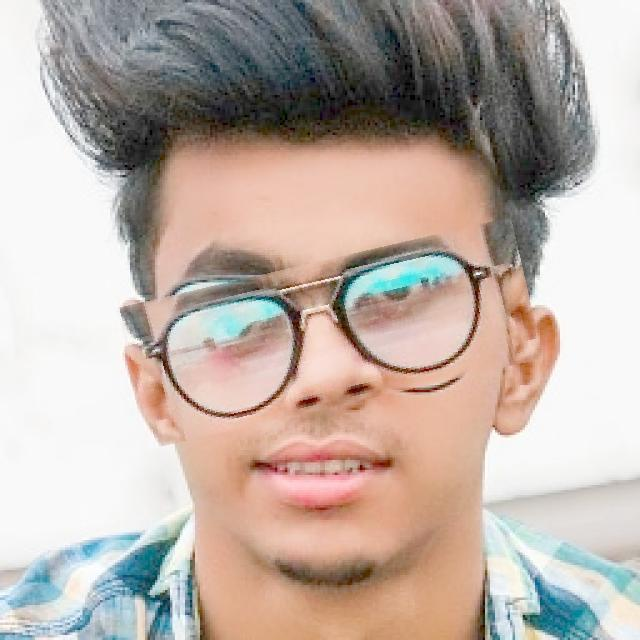glasses: (120, 239, 538, 428)
